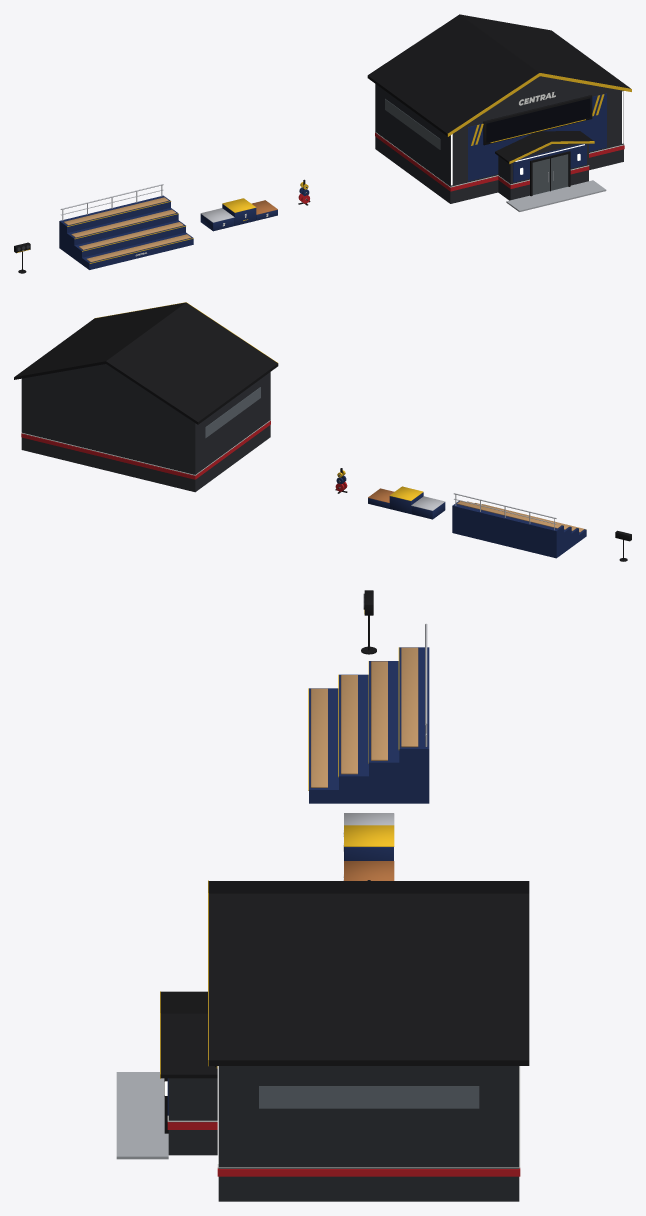
File: LocalMeet_01.glb
The picture shows the model from 3 angles, top to bottom: view 1: azimuth 30°, elevation 25°; view 2: azimuth 150°, elevation 25°; view 3: azimuth 270°, elevation 25°; orthographic projection. The views are drawn at different scales.
Parts seen in each view (by area): view 1: MeetHall_Roof, MeetHall_Walls, Bleachers_Body, MeetHall_Facade, Bleachers_Seats, MeetHall_SignScreen, MeetHall_Landing, MeetHall_Inside, MeetHall_Doors, MeetHall_RoofTrim, MeetHall_Stripe, AwardPodium_Blocks (+4 smaller); view 2: MeetHall_Walls, MeetHall_Roof, Bleachers_Body, MeetHall_Stripe, AwardPodium_Blocks, Bleachers_Seats, MeetHall_Windows, Bleachers_Rail; view 3: MeetHall_Roof, MeetHall_Walls, Bleachers_Body, Bleachers_Seats, MeetHall_Windows, MeetHall_Landing, MeetHall_Stripe, AwardPodium_Gold, AwardPodium_Bronze, MeetHall_Pinstripe.
Part boxes in pixels (x1,y1,x2,y2): MeetHall_Roof: (367, 14, 630, 163); MeetHall_Walls: (375, 76, 623, 203); Bleachers_Body: (59, 195, 193, 269); MeetHall_Facade: (468, 93, 606, 182); Bleachers_Seats: (64, 197, 191, 262); MeetHall_SignScreen: (486, 98, 590, 142); MeetHall_Landing: (506, 180, 606, 211); MeetHall_Inside: (532, 154, 568, 194); MeetHall_Doors: (533, 154, 567, 195); MeetHall_RoofTrim: (447, 73, 631, 163); MeetHall_Stripe: (375, 133, 624, 191); AwardPodium_Blocks: (200, 204, 277, 231); MeetHall_Walls: (21, 364, 270, 492); MeetHall_Roof: (14, 302, 278, 424); Bleachers_Body: (452, 501, 586, 558); MeetHall_Stripe: (21, 421, 270, 479); AwardPodium_Blocks: (368, 492, 445, 519); Bleachers_Seats: (457, 501, 584, 532); MeetHall_Windows: (205, 387, 260, 437); Bleachers_Rail: (453, 493, 556, 530); MeetHall_Roof: (160, 881, 529, 1078); MeetHall_Walls: (168, 1066, 519, 1201); Bleachers_Body: (309, 647, 429, 803); Bleachers_Seats: (311, 647, 418, 787); MeetHall_Windows: (259, 1086, 478, 1108); MeetHall_Landing: (116, 1072, 168, 1159); MeetHall_Stripe: (167, 1122, 520, 1176); AwardPodium_Gold: (344, 825, 394, 846); AwardPodium_Bronze: (344, 861, 394, 880); MeetHall_Pinstripe: (167, 1066, 520, 1168).
Size of the model in its own units: 133 by 24.65 by 41.2.
